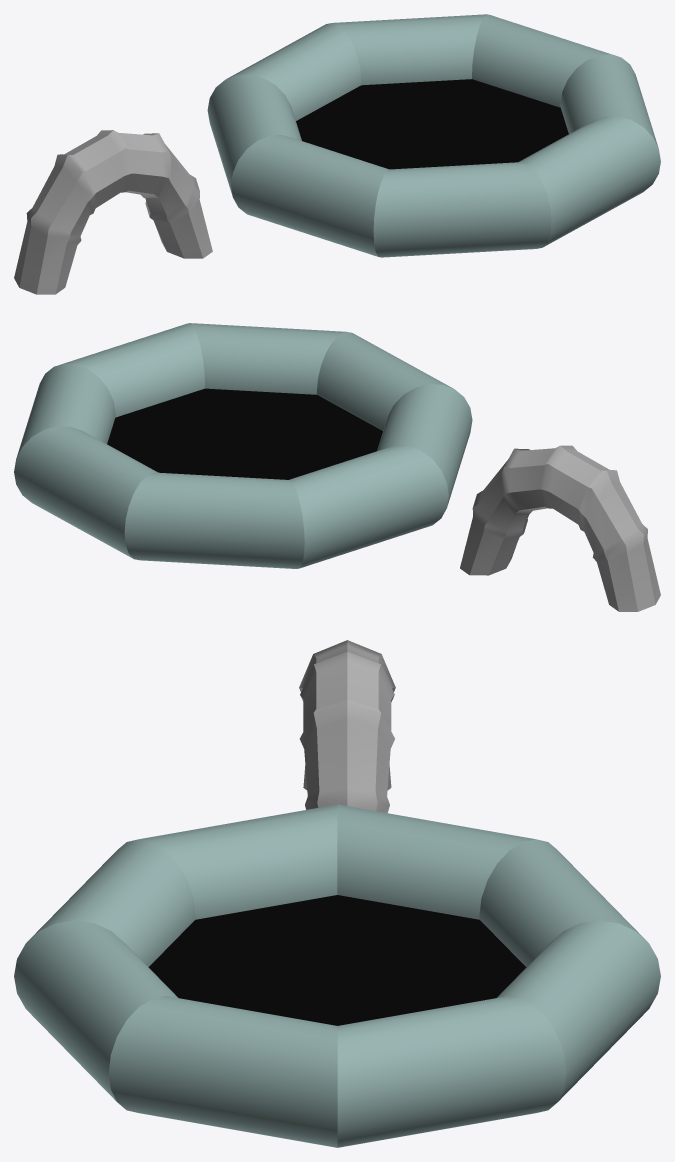
Rendered from geyser_base.fbx.
3 renders of one model, top to bottom at view 1: azimuth 30°, elevation 25°; view 2: azimuth 150°, elevation 25°; view 3: azimuth 270°, elevation 25°, orthographic. The views are drawn at different scales.
Parts seen in each view (by area): view 1: pTorus1, pPlane1, pCylinder1; view 2: pTorus1, pPlane1, pCylinder1; view 3: pTorus1, pPlane1, pCylinder1.
Part boxes in pixels (x1,y1,x2,y2): pTorus1: (207, 14, 660, 257); pPlane1: (296, 79, 568, 169); pCylinder1: (14, 130, 212, 294); pTorus1: (14, 323, 472, 568); pPlane1: (107, 388, 382, 479); pCylinder1: (460, 445, 660, 611); pTorus1: (14, 804, 660, 1147); pPlane1: (148, 895, 526, 1025); pCylinder1: (299, 640, 395, 813).
Bounding box in the file's own units: 6.11 × 1.28 × 4.04.
